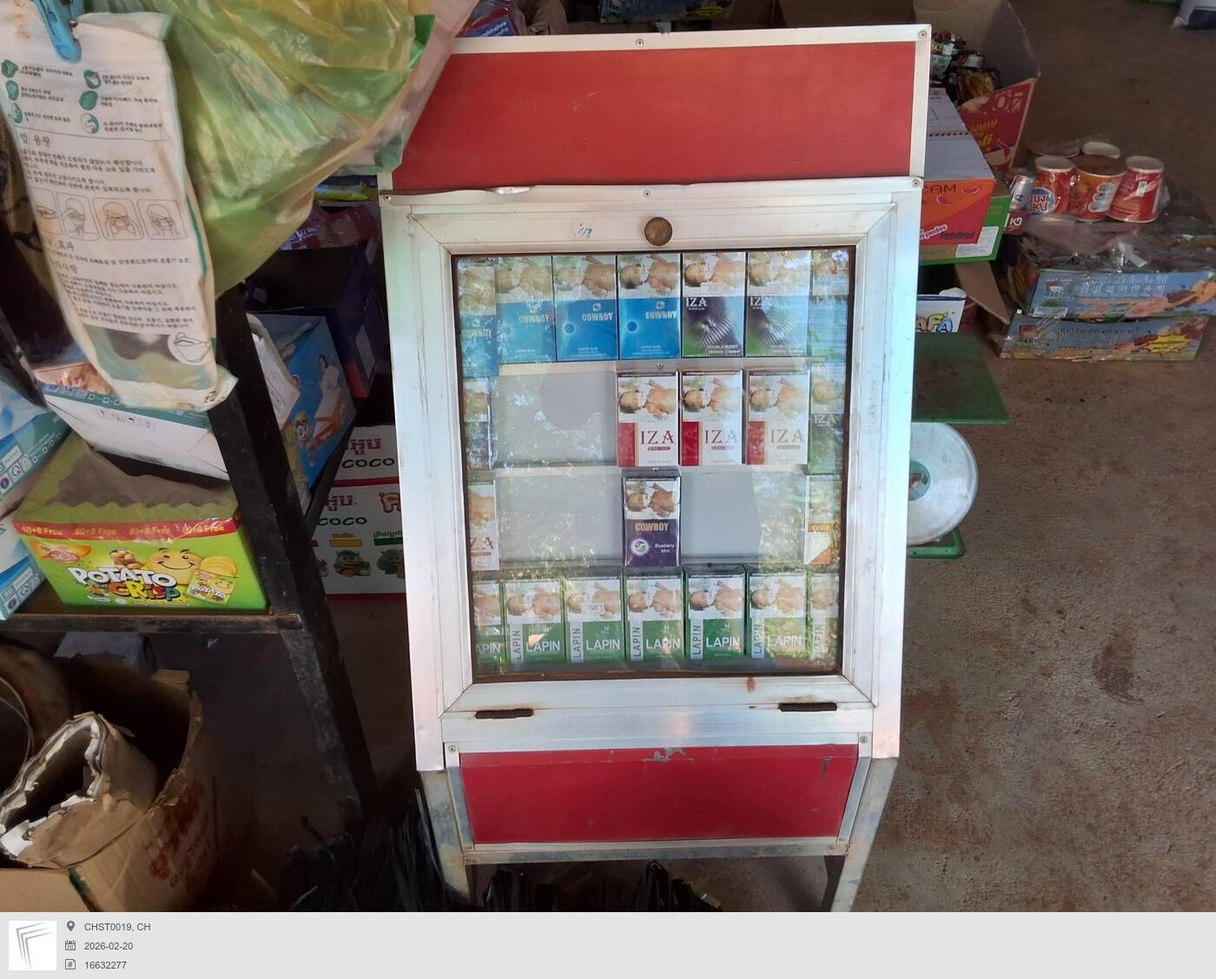cigarette_pack: (610, 252, 689, 365), (677, 252, 752, 360), (746, 246, 815, 356), (494, 253, 558, 360), (500, 567, 563, 675), (556, 249, 615, 364), (620, 578, 692, 670), (610, 375, 679, 467), (618, 474, 680, 570), (746, 377, 809, 469), (793, 479, 856, 566), (808, 243, 856, 351), (686, 577, 743, 666), (449, 256, 495, 365), (566, 580, 623, 663), (804, 371, 847, 479), (758, 571, 803, 673), (684, 380, 737, 465), (463, 485, 505, 583), (467, 573, 505, 680), (805, 568, 841, 671), (455, 374, 489, 477)
